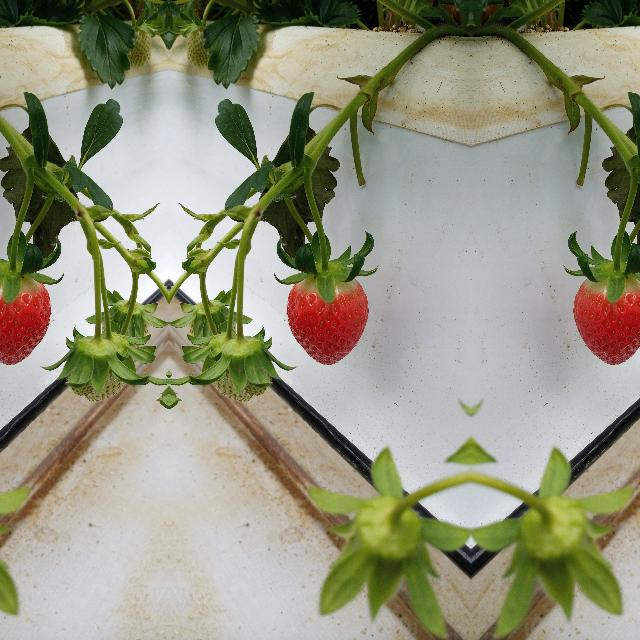Health_100: (286, 274, 368, 364), (572, 273, 640, 364), (0, 273, 50, 364)
